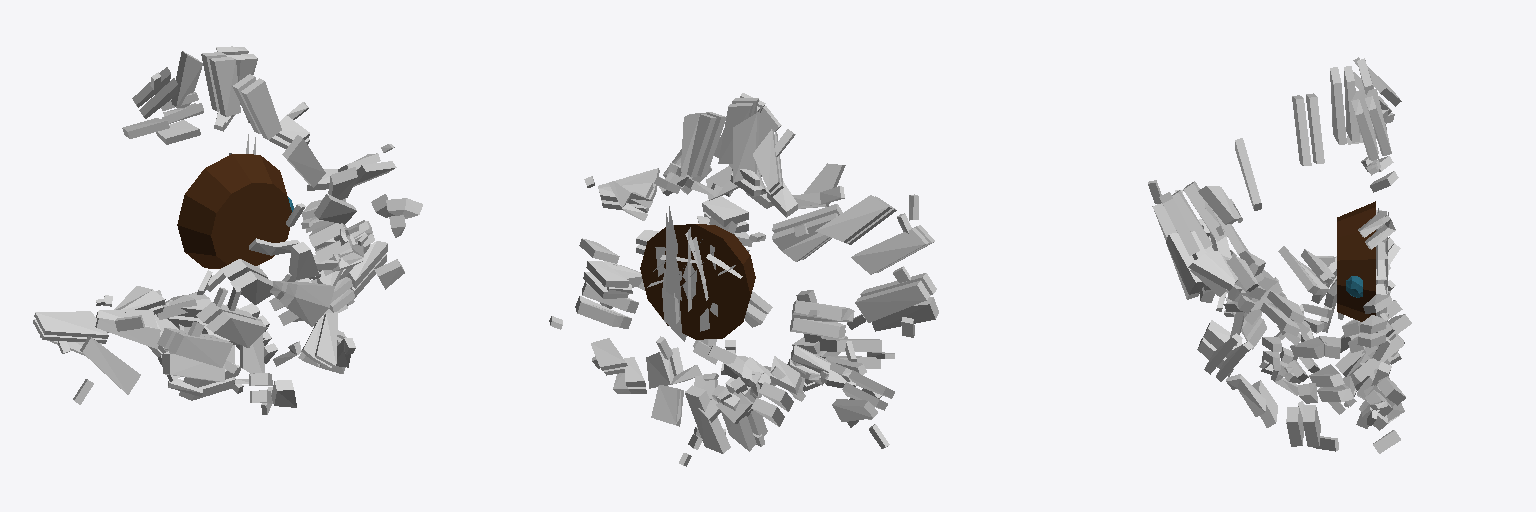
3 renders of one model, left to right at view 1: azimuth 30°, elevation 25°; view 2: azimuth 150°, elevation 25°; view 3: azimuth 270°, elevation 25°, orthographic.
Parts seen in each view (by area): view 1: Cone.001_Cone.001_cover, Cone_Cone_cover, Cylinder_Cylinder_Material.001; view 2: Cone_Cone_cover, Cone.001_Cone.001_cover, Cylinder_Cylinder_Material.001, Plane_Plane_Material.003; view 3: Cone_Cone_cover, Cone.001_Cone.001_cover, Cylinder_Cylinder_Material.001, Plane_Plane_Material.003.
Boxes of the visible parts, <box> form: Cone.001_Cone.001_cover: <box>33,46,396,404</box>; Cone_Cone_cover: <box>115,167,422,414</box>; Cylinder_Cylinder_Material.001: <box>177,154,291,268</box>; Cone_Cone_cover: <box>549,149,938,466</box>; Cone.001_Cone.001_cover: <box>579,93,918,448</box>; Cylinder_Cylinder_Material.001: <box>640,224,755,339</box>; Plane_Plane_Material.003: <box>647,206,742,341</box>; Cone_Cone_cover: <box>1152,181,1411,453</box>; Cone.001_Cone.001_cover: <box>1148,57,1401,414</box>; Cylinder_Cylinder_Material.001: <box>1337,201,1375,321</box>; Plane_Plane_Material.003: <box>1376,208,1388,316</box>.
Size of the model in its own units: 3.42 by 3.51 by 2.31.
Materials: 4 (1 with a texture image).